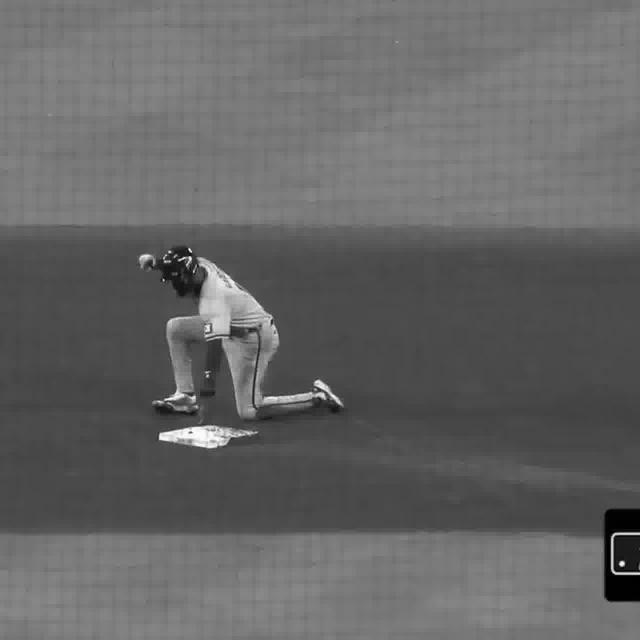base: (158, 428, 262, 454)
shoe: (313, 378, 349, 418), (152, 394, 200, 418)
